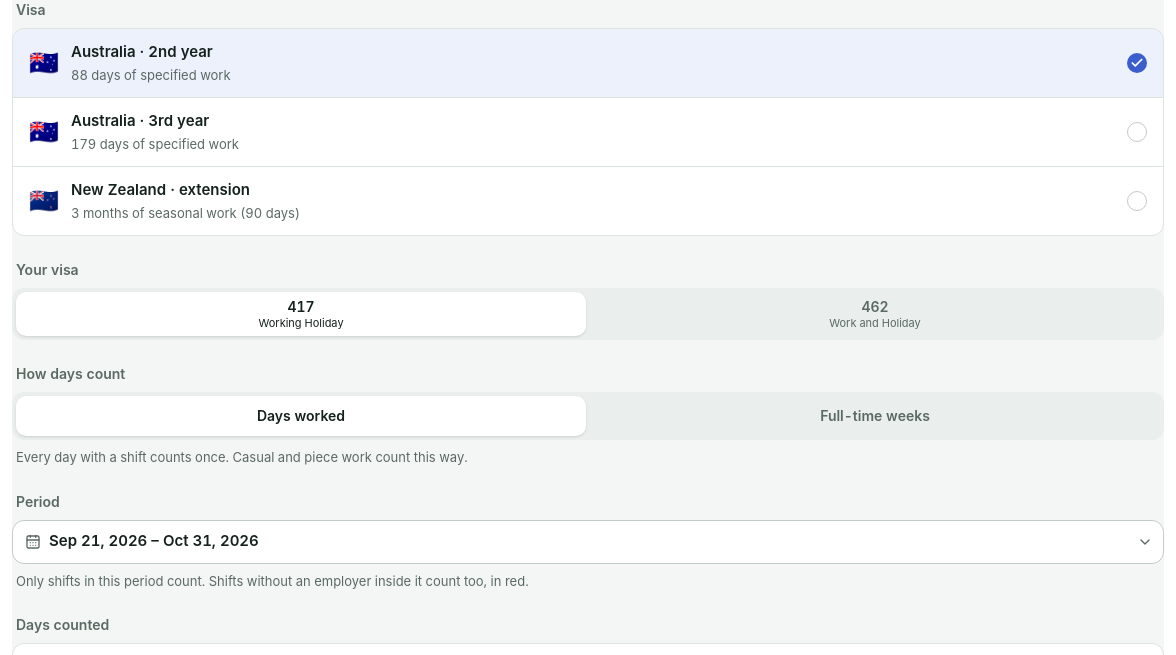
Test case: Visa report › on a 462, mining doesn't count: its days move out of the total, in amber
What coordinates should you click on to do the following:
click the radio button with test id "visa-subclass-462"
I would click on:
 (875, 314)
Its box is [590, 292, 1160, 336].
(page scrolled)
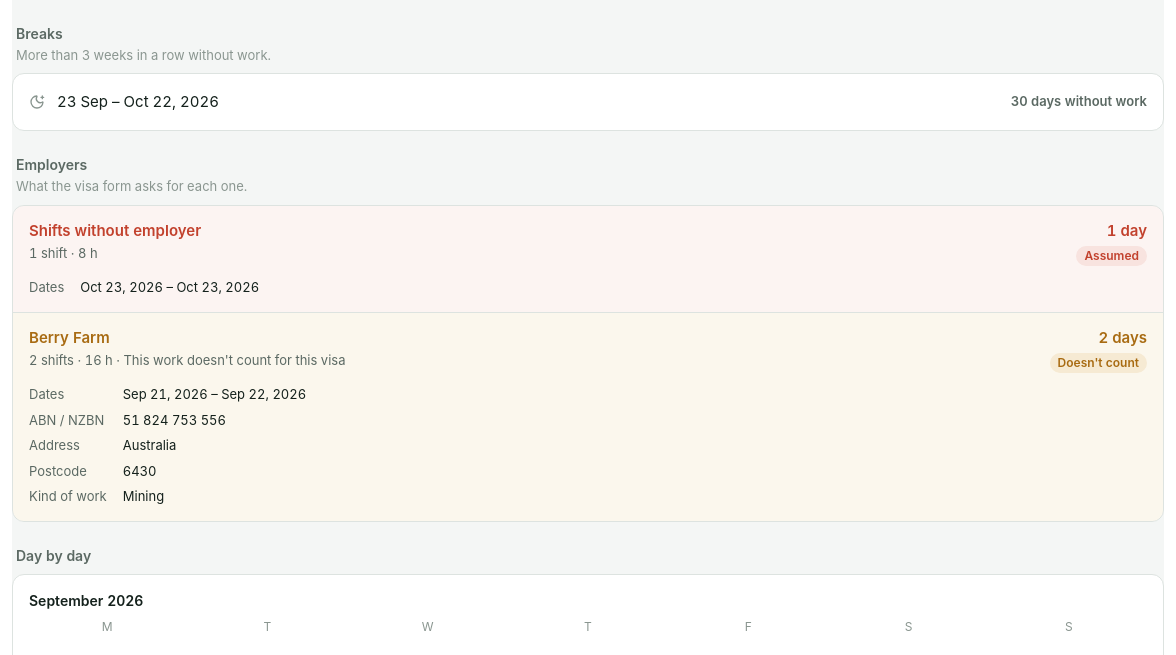
Expected: the text "Doesn't count" is shown, [1050, 353, 1147, 373]
Expected: the text "2 shifts · 16 h · This work doesn't count for this visa" is shown, [29, 351, 346, 370]
